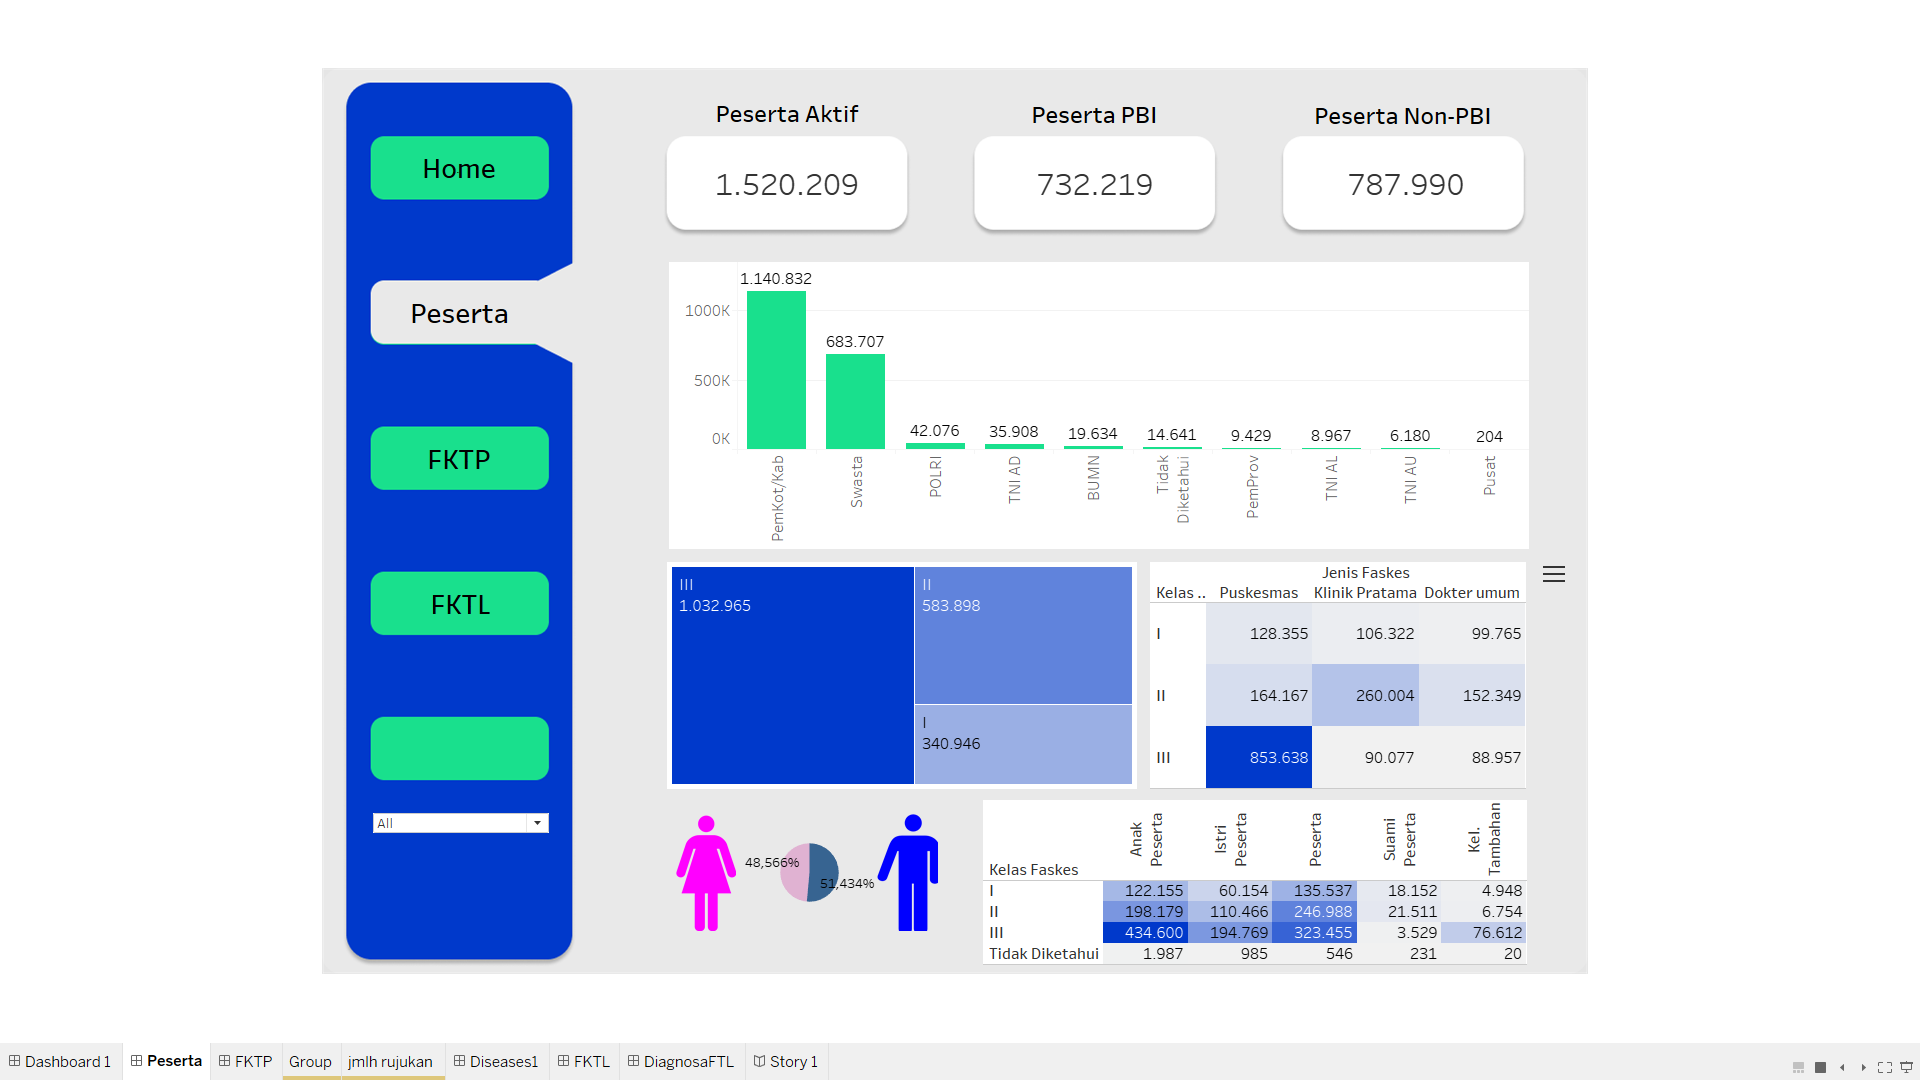

This screenshot's page, from the dashboard's own definition file:
{"tool":"tableau","page":{"name":"Peserta","canvas":[1300,930],"ordinal":5},"visuals":[{"type":"image","param":"C:/Users/fikri/Desktop/pyproj/drive-download-20201208T124209Z-001/New folder/2.p","box":[8,8,1284,914]},{"type":"text","box":[356,41,242,32]},{"type":"text","box":[664,42,241,32]},{"type":"text","box":[973,43,240,32]},{"type":"dashboard-object","box":[58,79,181,67]},{"type":"text","box":[61,79,176,65]},{"type":"worksheet","title":"Peserta Aktif","mark":"Automatic","box":[373,81,207,92]},{"type":"worksheet","title":"NON PBI","mark":"Automatic","box":[994,81,204,91]},{"type":"worksheet","title":"PBI","mark":"Automatic","box":[680,83,209,88]},{"type":"worksheet","title":"Kepemilikan","mark":"Automatic","rows":["PSTV01"],"cols":["PSTV11"],"box":[359,206,860,287]},{"type":"text","box":[61,224,177,64]},{"type":"dashboard-object","box":[58,367,181,68]},{"type":"worksheet","title":"1","mark":"Automatic","box":[60,368,177,69]},{"type":"text","box":[61,369,176,67]},{"type":"worksheet","title":"kepemilikanvskelas","mark":"Square","rows":["PSTV07"],"cols":["PSTV11"],"box":[355,504,861,234]},{"type":"worksheet","title":"FASKES","mark":"Automatic","box":[357,506,470,227]},{"type":"worksheet","title":"faskes vs jenis","mark":"Square","rows":["PSTV07"],"cols":["PSTV12"],"box":[840,506,376,227]},{"type":"dashboard-object","box":[1232,506,24,24]},{"type":"dashboard-object","box":[60,514,182,65]},{"type":"text","box":[61,515,179,65]},{"type":"text","box":[59,660,181,65]},{"type":"worksheet","title":"hubungan","mark":"Square","rows":["PSTV07"],"cols":["PSTV04"],"box":[673,744,544,165]},{"type":"parameter","param":"[Parameters].[Parameter 1]","box":[60,754,182,67]},{"type":"worksheet","title":"jk","mark":"Pie","box":[434,758,131,117]},{"type":"image","param":"C:/Users/fikri/Downloads/male.png","box":[567,758,87,117]},{"type":"image","param":"C:/Users/fikri/Downloads/female.png","box":[366,759,64,116]}]}

Visuals, with their boxes on the page's 1300x930 design canvas (x1, y1, x2, y2). These are canvas units, not pixel positions in the 1920x1080 screenshot, which may show the page scaled, cropped or inside an application window:
image: detection(8, 8, 1292, 922)
text: detection(356, 41, 598, 73)
text: detection(664, 42, 905, 74)
text: detection(973, 43, 1213, 75)
dashboard-object: detection(58, 79, 239, 146)
text: detection(61, 79, 237, 144)
"Peserta Aktif" worksheet: detection(373, 81, 580, 173)
"NON PBI" worksheet: detection(994, 81, 1198, 172)
"PBI" worksheet: detection(680, 83, 889, 171)
"Kepemilikan" worksheet: detection(359, 206, 1219, 493)
text: detection(61, 224, 238, 288)
dashboard-object: detection(58, 367, 239, 435)
"1" worksheet: detection(60, 368, 237, 437)
text: detection(61, 369, 237, 436)
"kepemilikanvskelas" worksheet (Square marks): detection(355, 504, 1216, 738)
"FASKES" worksheet: detection(357, 506, 827, 733)
"faskes vs jenis" worksheet (Square marks): detection(840, 506, 1216, 733)
dashboard-object: detection(1232, 506, 1256, 530)
dashboard-object: detection(60, 514, 242, 579)
text: detection(61, 515, 240, 580)
text: detection(59, 660, 240, 725)
"hubungan" worksheet (Square marks): detection(673, 744, 1217, 909)
parameter: detection(60, 754, 242, 821)
"jk" worksheet (Pie marks): detection(434, 758, 565, 875)
image: detection(567, 758, 654, 875)
image: detection(366, 759, 430, 875)
